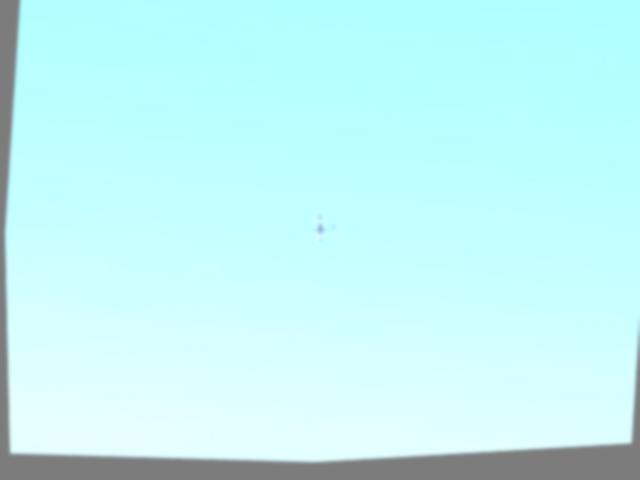uav: (308, 215, 337, 250)
